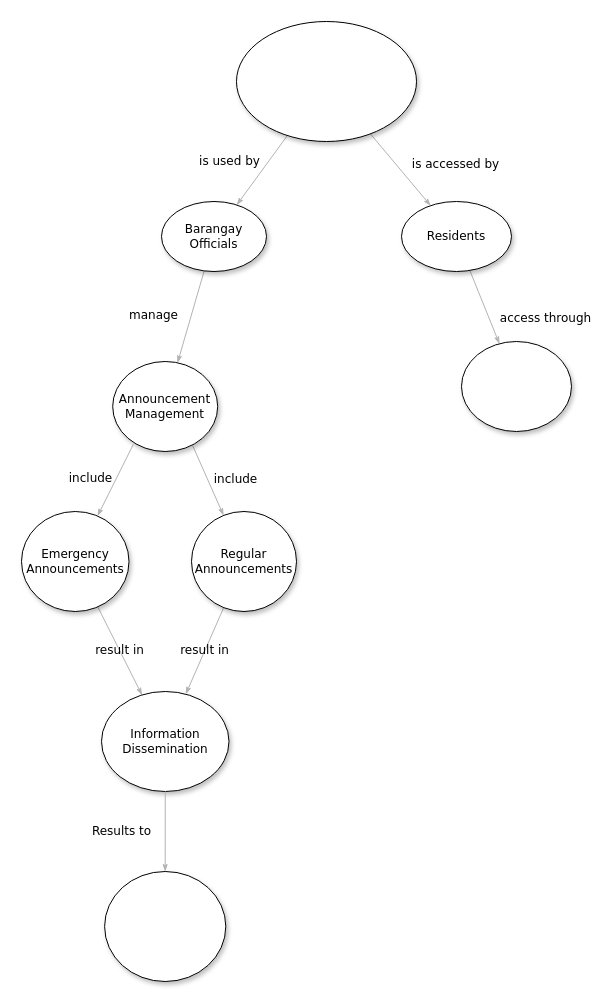
The diagram is 608 pixels wide and 1006 high, and some of its shapes have lost their labels. Each missing label, with the centre of its shape:
"Cross-Platform Barangay Information and Announcement Management System" belongs at pixel 327 82.
"Improved Communication and Information Dissemination" belongs at pixel 166 927.
"Web/Mobile Application" belongs at pixel 517 387.
